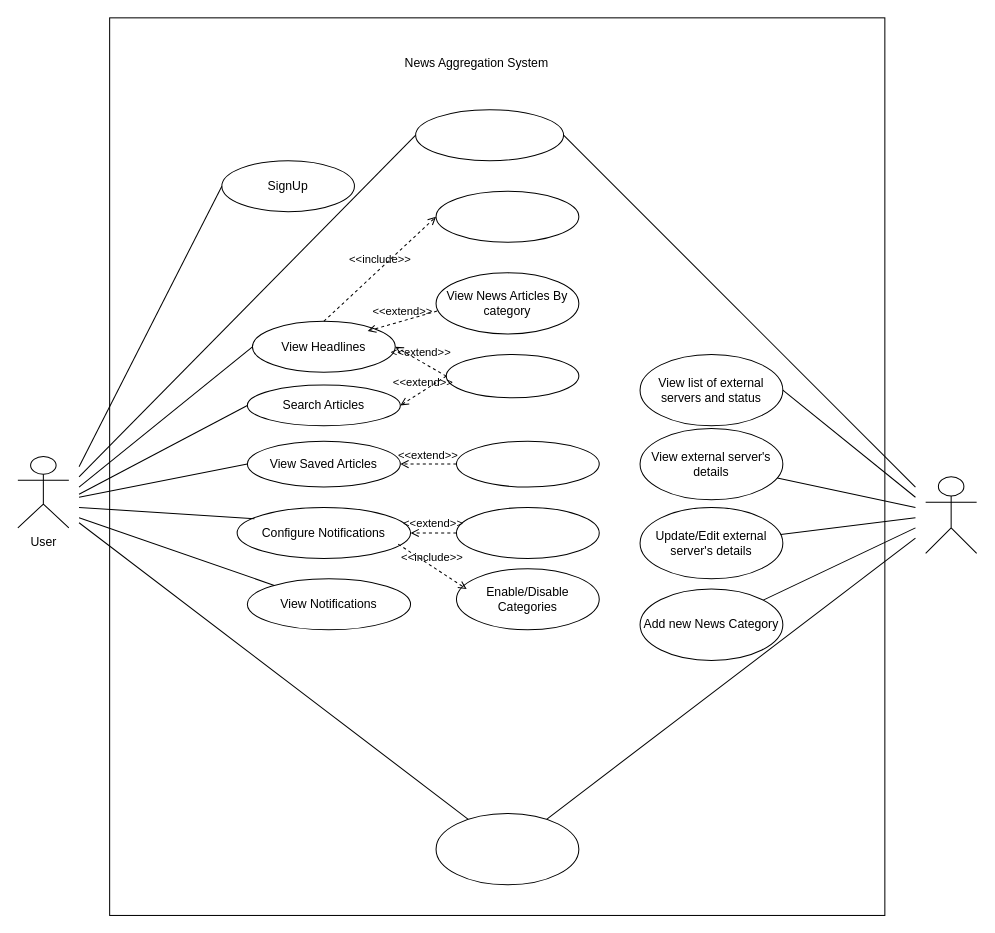
Some shapes in this 995 by 933 pixel diagram are drawn without their labels. The shapes that lost their labels are listed below. From the top down, each one's box as (x1, y1, x2, y2) in pixels, then its label:
(415, 109, 564, 161): Login
(435, 190, 579, 242): View Headlines by Date&Time filters
(445, 353, 579, 398): Save Article
(455, 440, 599, 487): Delete Article
(455, 506, 599, 558): SetKeywords
(925, 476, 977, 553): Admin
(435, 812, 579, 885): Logout
